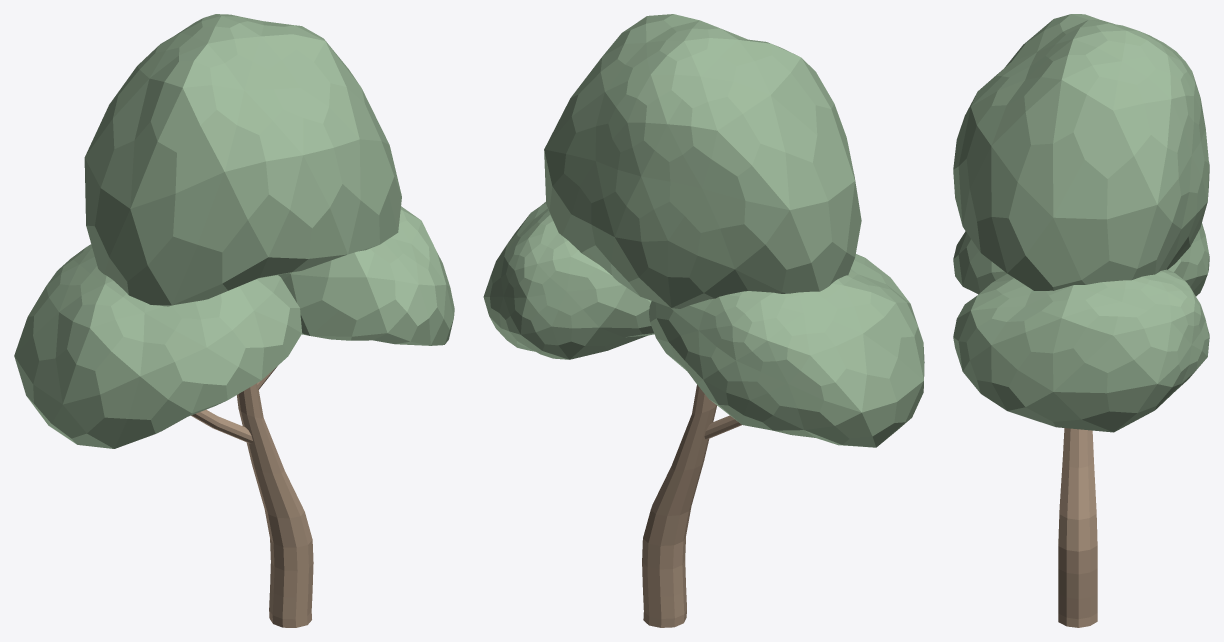
Rendered from oak_a.glb.
3 views of the same model, side by side, from view 1: azimuth 30°, elevation 25°; view 2: azimuth 150°, elevation 25°; view 3: azimuth 270°, elevation 25° (orthographic). The views are drawn at different scales.
Parts seen in each view (by area): view 1: merged; view 2: merged; view 3: merged.
Part boxes in pixels (x1=…): merged: x1=14, y1=14, x2=454, y2=627; merged: x1=483, y1=14, x2=924, y2=627; merged: x1=953, y1=14, x2=1209, y2=627.
Size of the model in its own units: 3.73 by 5.57 by 2.26.
